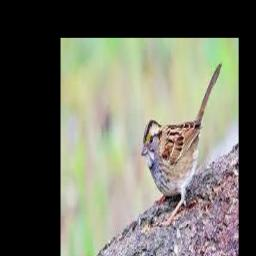Sparrow: (142, 63, 223, 226)
